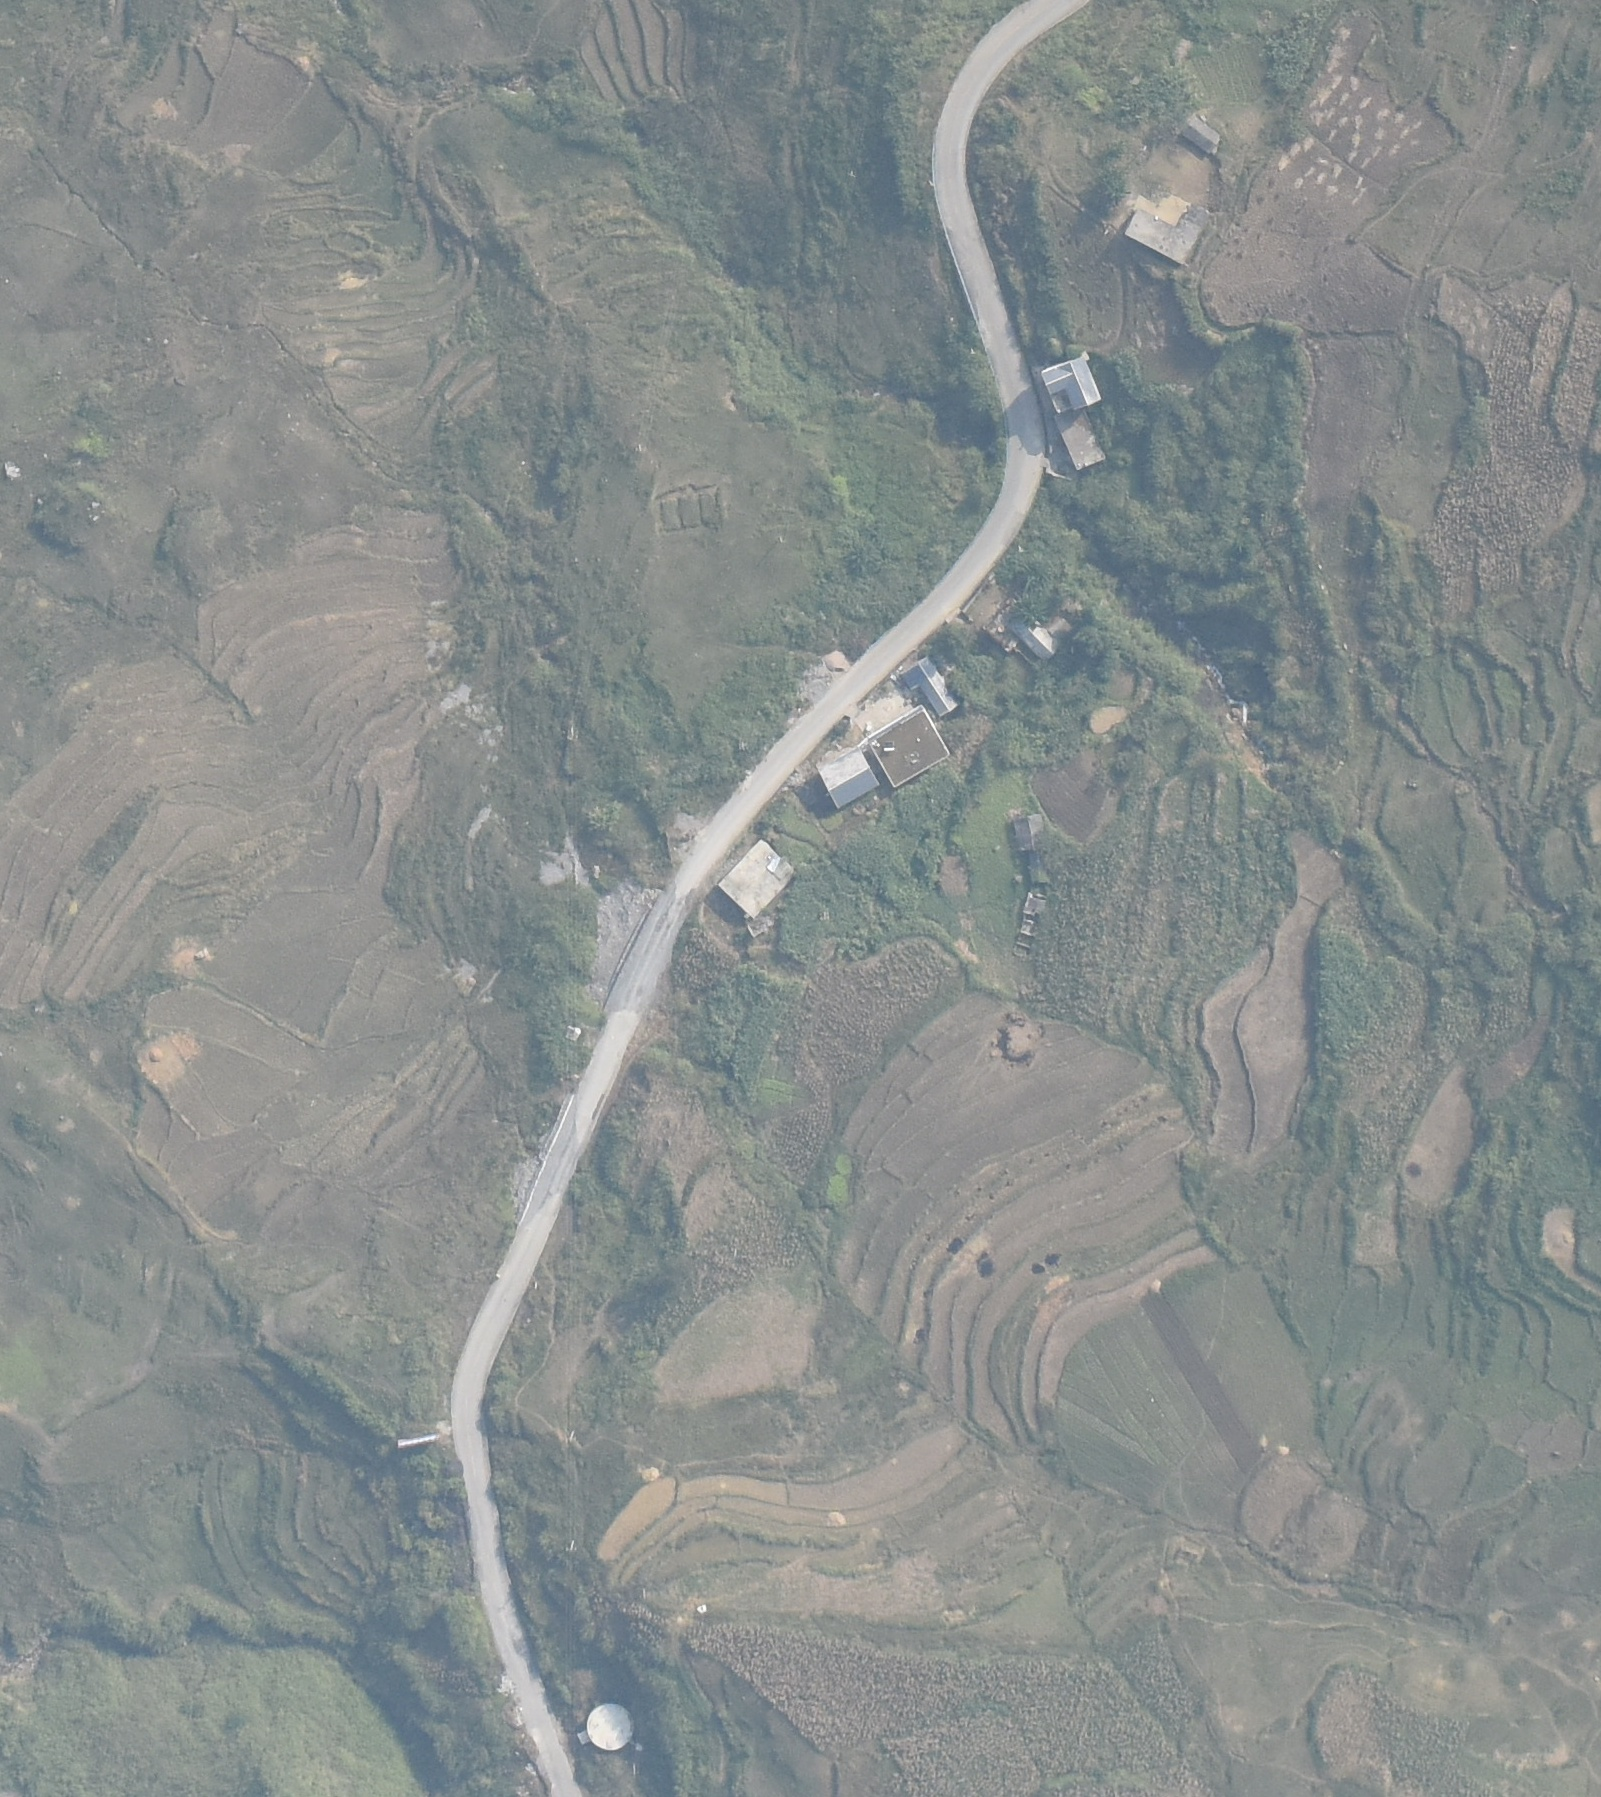building: (1121, 192, 1219, 264), (870, 706, 951, 787), (717, 839, 791, 919), (801, 746, 883, 811), (1037, 352, 1110, 412), (899, 656, 963, 722), (1047, 415, 1111, 478), (1007, 604, 1068, 666), (1173, 96, 1225, 159), (1002, 806, 1055, 856)
well: (581, 1704, 638, 1753)
